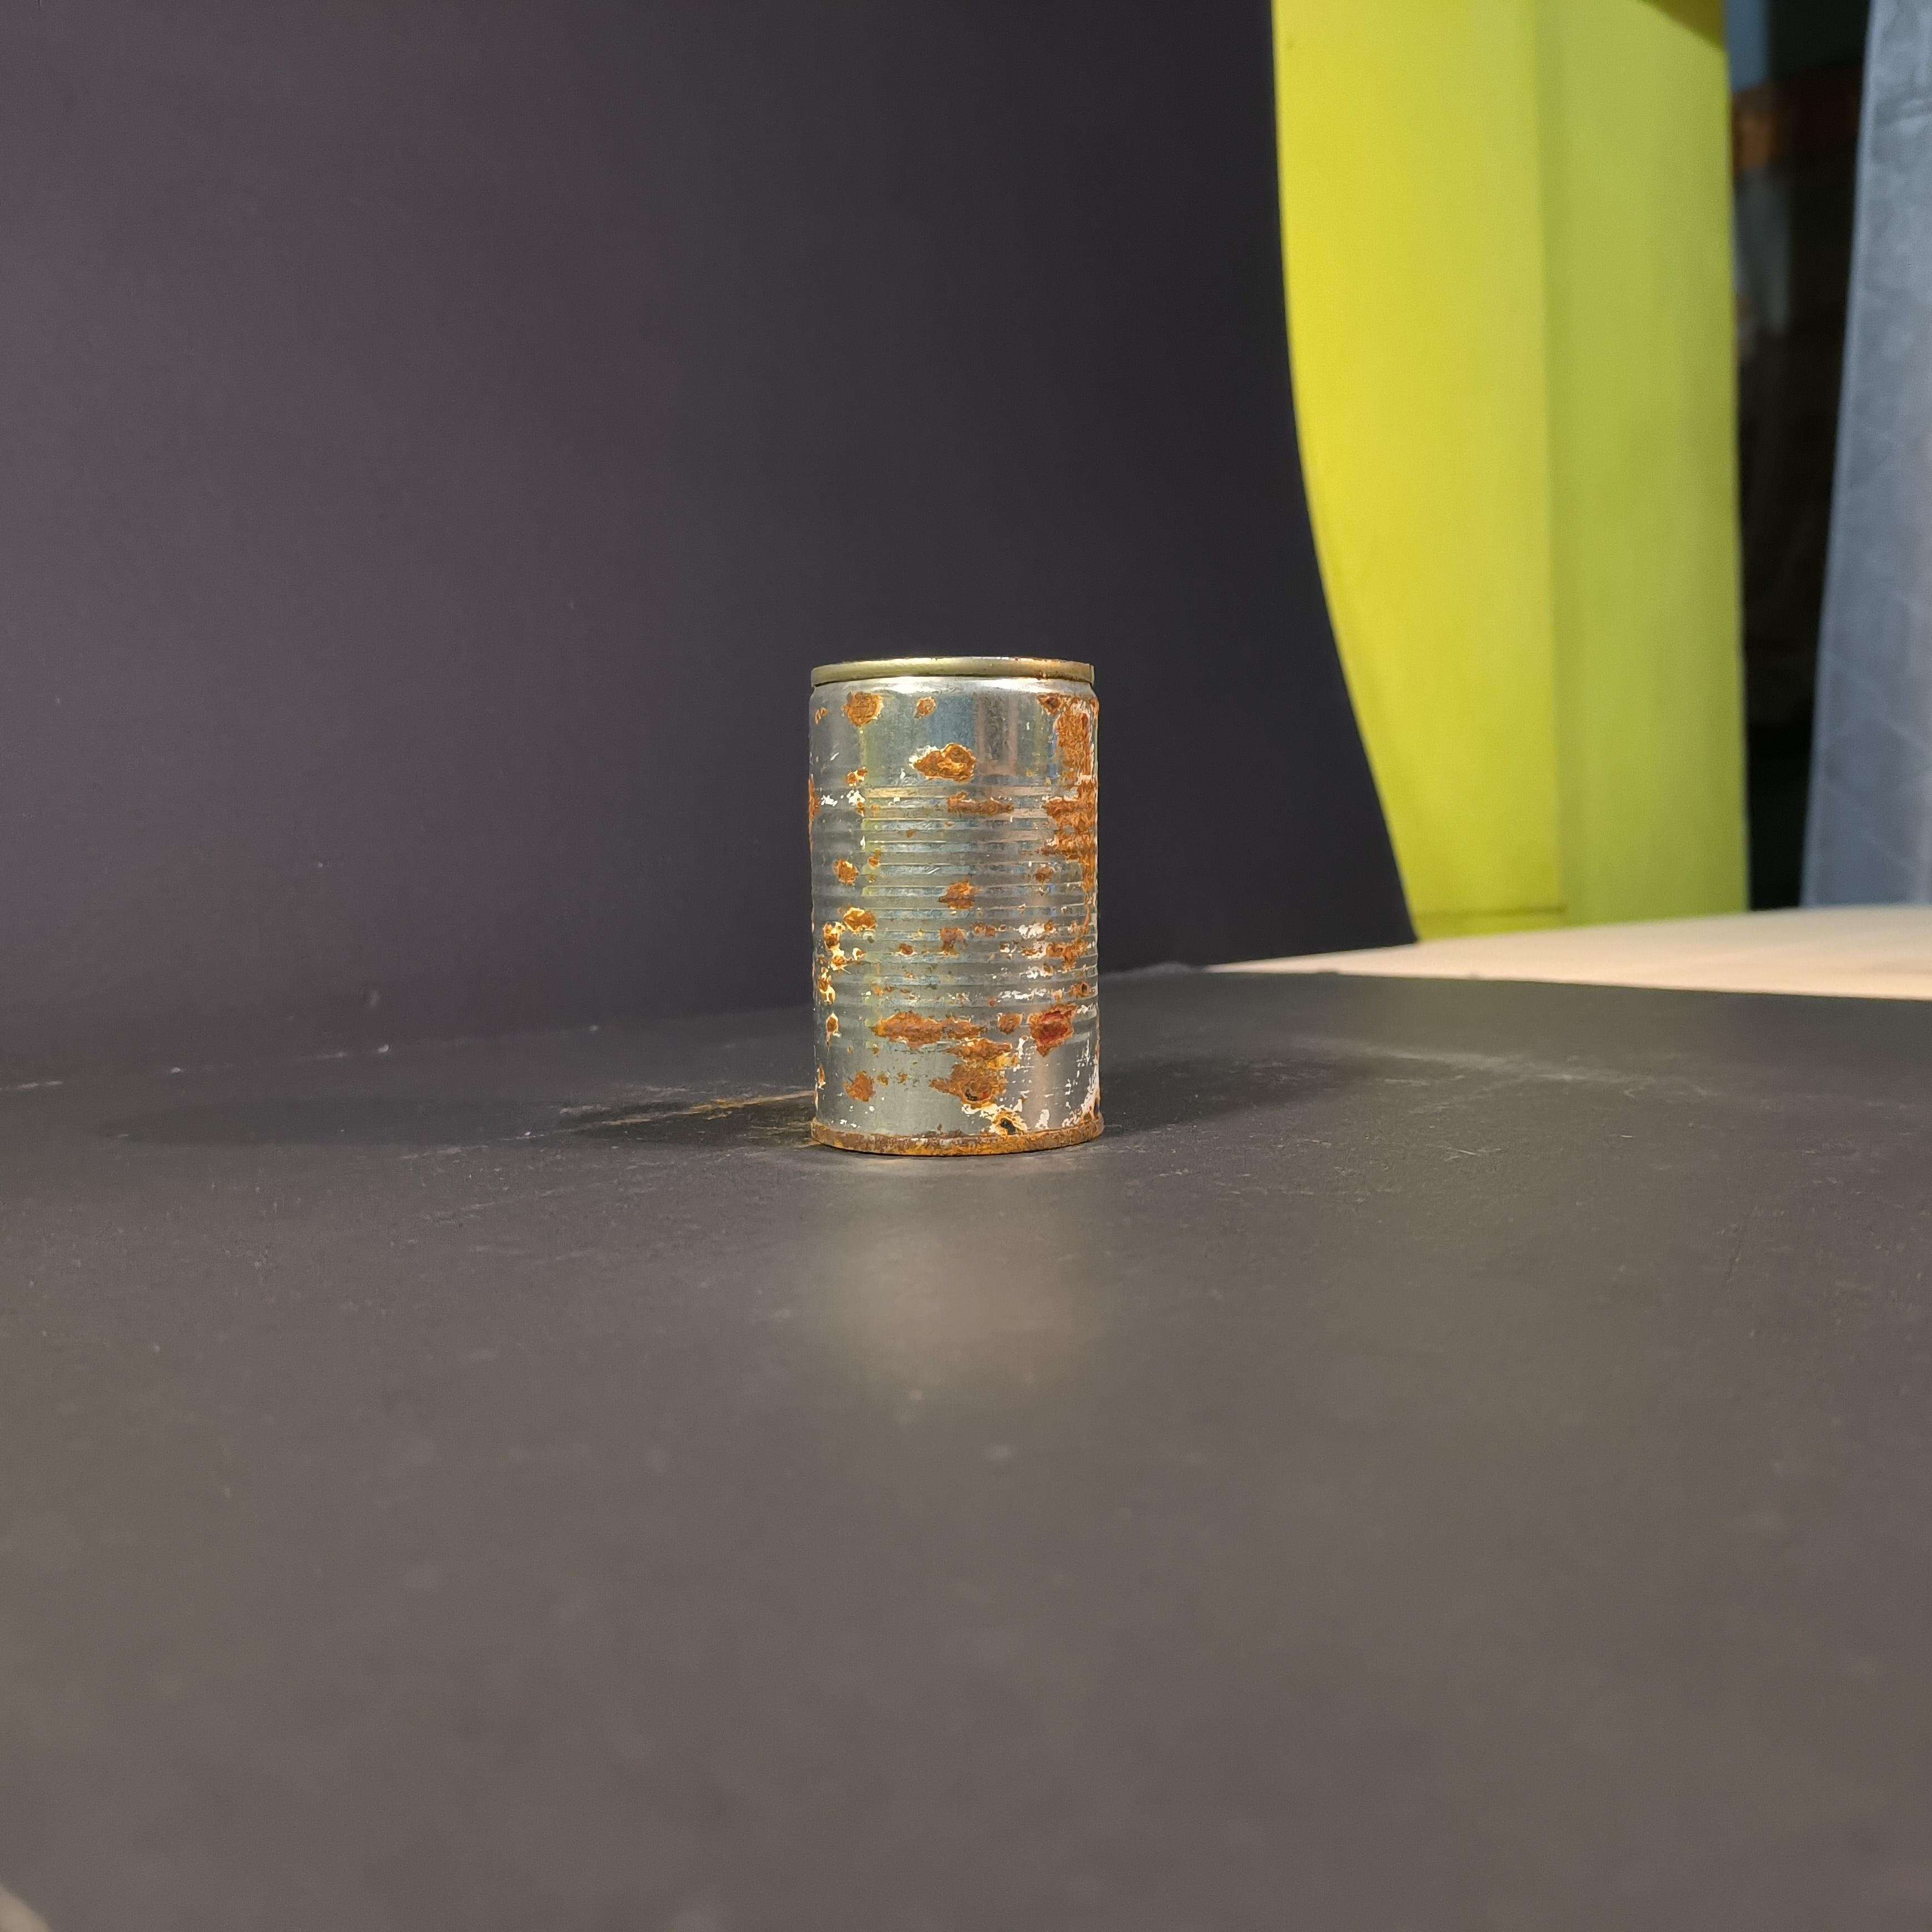Rusted: (787, 632, 1123, 1196)
